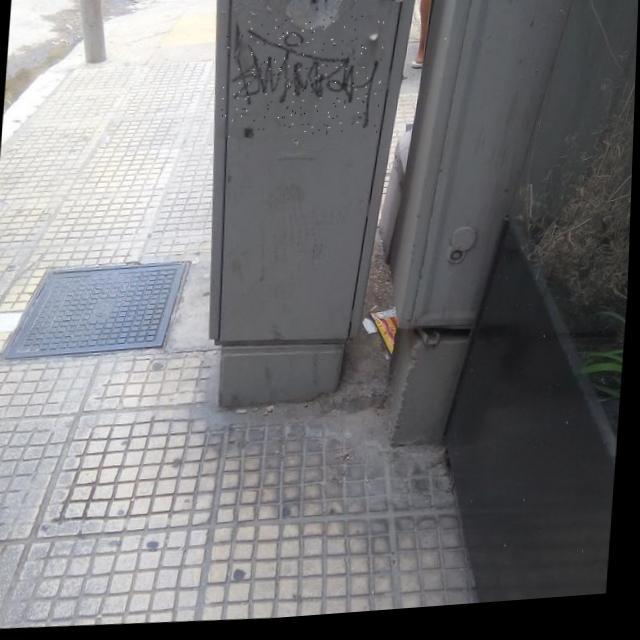-: (220, 15, 386, 146)
